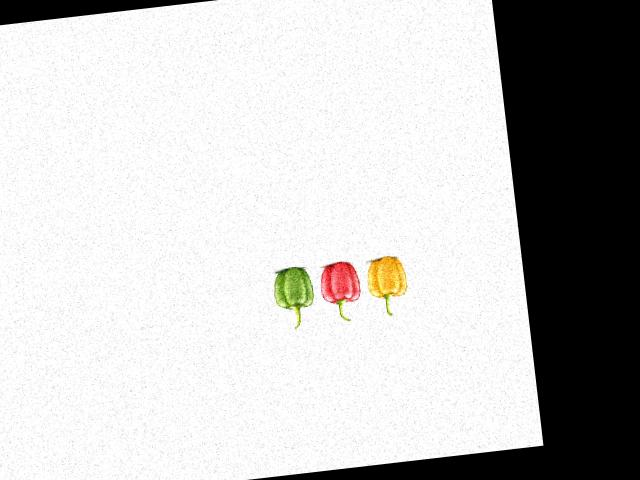bell_pepper: (266, 262, 316, 330)
